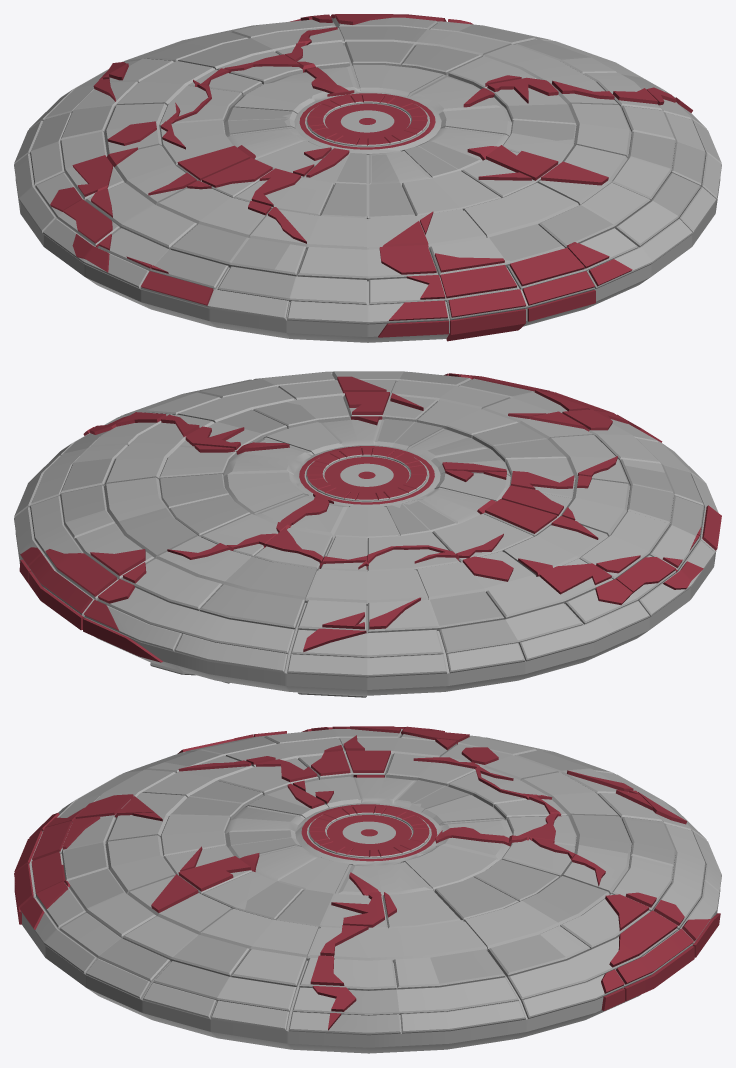
File: Enemy Camp - Essence Pool - Middle.fbx
3 renders of one model, top to bottom at view 1: azimuth 30°, elevation 25°; view 2: azimuth 150°, elevation 25°; view 3: azimuth 270°, elevation 25°, orthographic.
Visible parts, largest first — view 1: pSphere2; view 2: pSphere2; view 3: pSphere2.
Boxes of the visible parts, x1,y1,x2,y2 form: pSphere2: [14, 14, 721, 342]; pSphere2: [14, 371, 721, 697]; pSphere2: [14, 726, 721, 1053].
Size of the model in its own units: 8.01 by 1.54 by 8.02.
